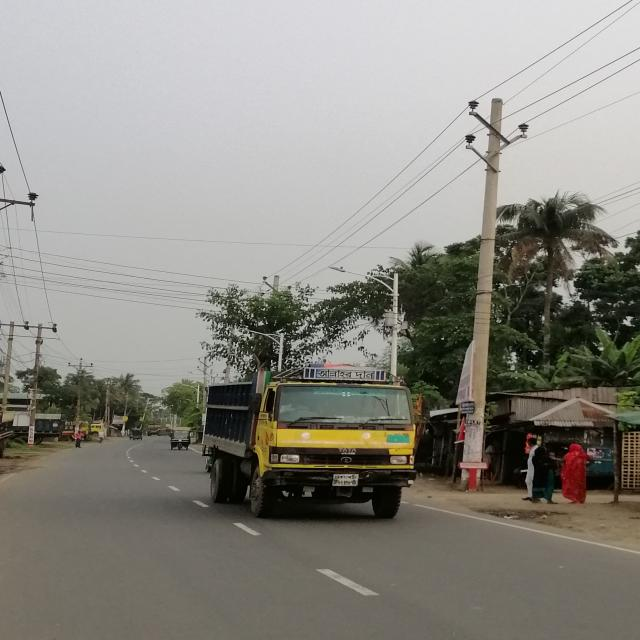Truck: (205, 367, 423, 529)
